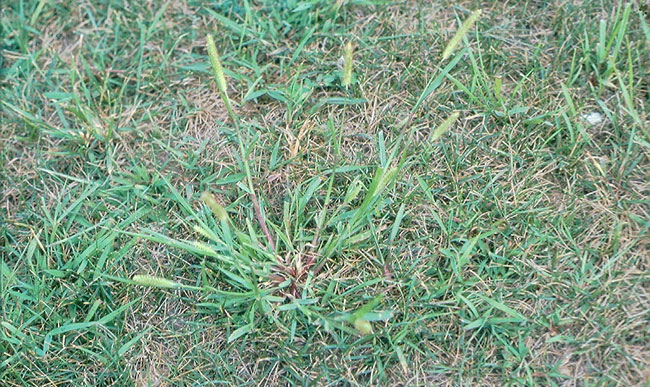crabgrass: (177, 169, 418, 346)
